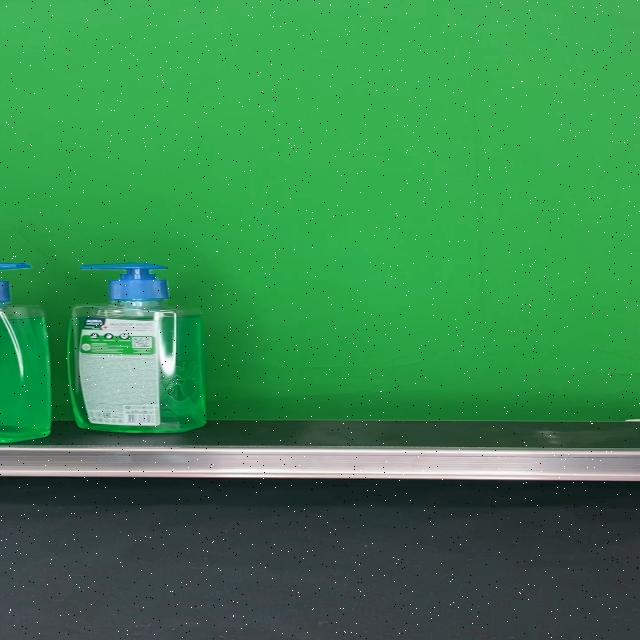Bottle: (66, 262, 207, 433)
Cap: (77, 263, 168, 303)
